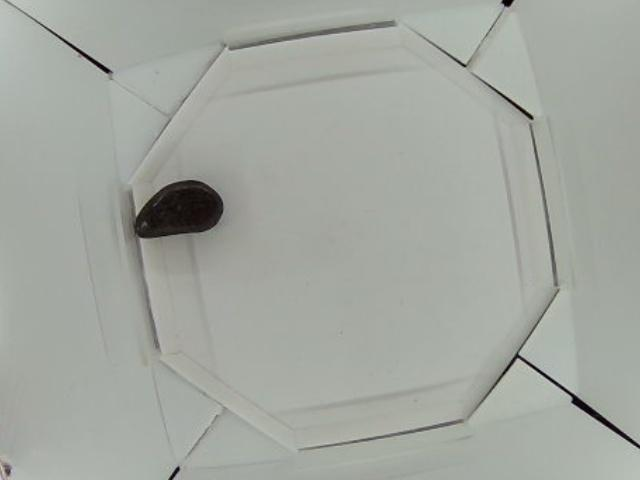Pebble: (131, 180, 223, 237)
